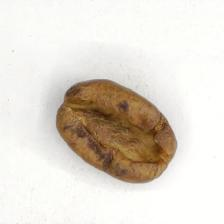NG: (65, 90, 164, 170)
